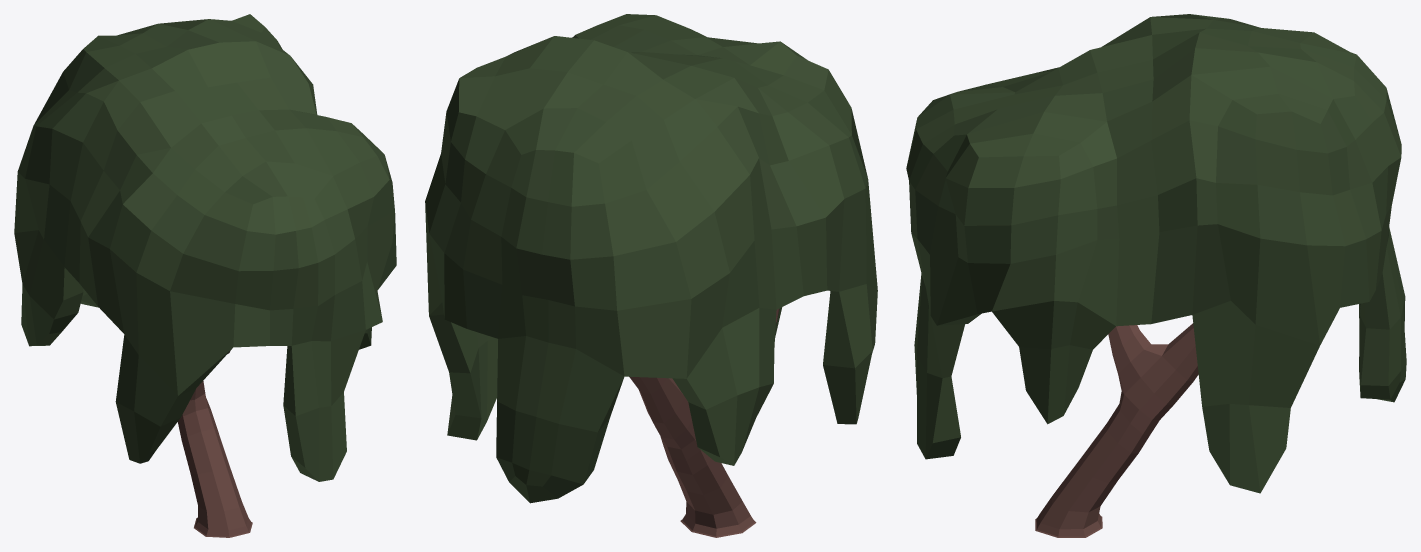
Rendered from Willow_4-transformed.glb.
3 views of the same model, side by side, from view 1: azimuth 30°, elevation 25°; view 2: azimuth 150°, elevation 25°; view 3: azimuth 270°, elevation 25° (orthographic). The views are drawn at different scales.
Visible parts, largest first — view 1: Willow_4; view 2: Willow_4; view 3: Willow_4.
Boxes of the visible parts, bbox=[...] form: Willow_4: bbox=[14, 14, 396, 537]; Willow_4: bbox=[425, 14, 877, 537]; Willow_4: bbox=[906, 14, 1406, 537].
Bounding box in the file's own units: 2.19 × 3.39 × 3.04.
